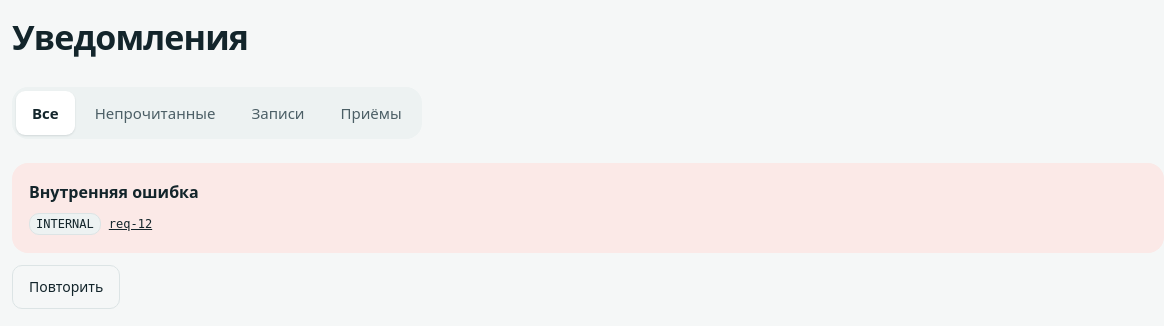
Test: NotificationCenter › should show a banner with the request id and retry when the service fails
The image size is (1164, 326).
Expected: the message with test id "problem-banner" shows "req-12", [109, 212, 152, 236]
Click the button "Повторить". click: click(66, 287)
box: [12, 265, 120, 309]
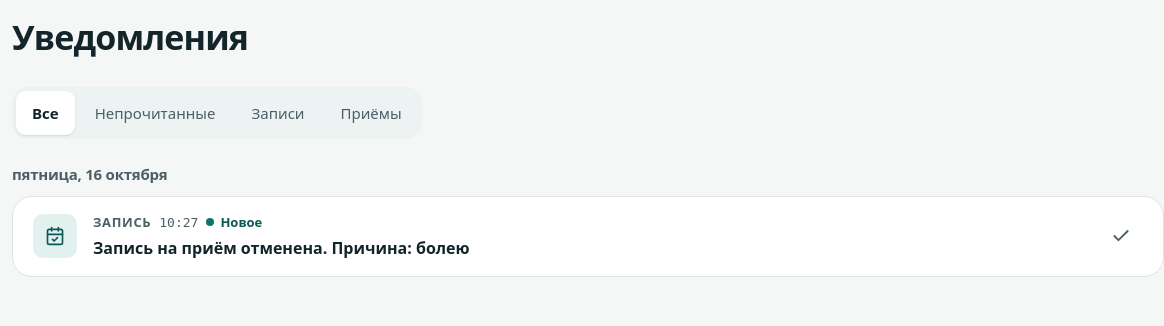
Now the element named "Список уведомлений" is shown, box [12, 163, 1163, 277]
